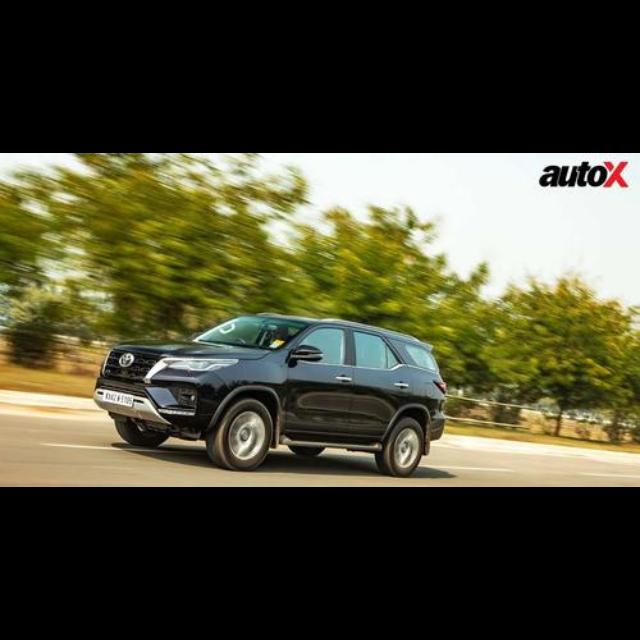vehicles: (88, 308, 448, 478)
